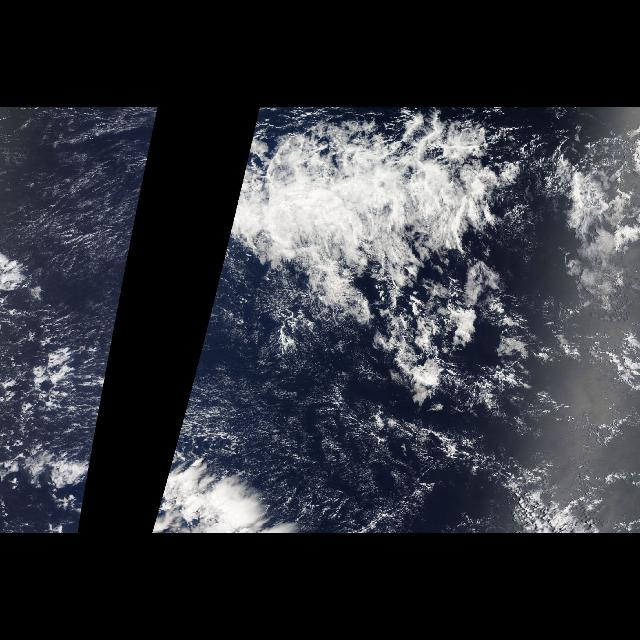Sugar: (173, 324, 393, 496), (0, 108, 158, 304)
